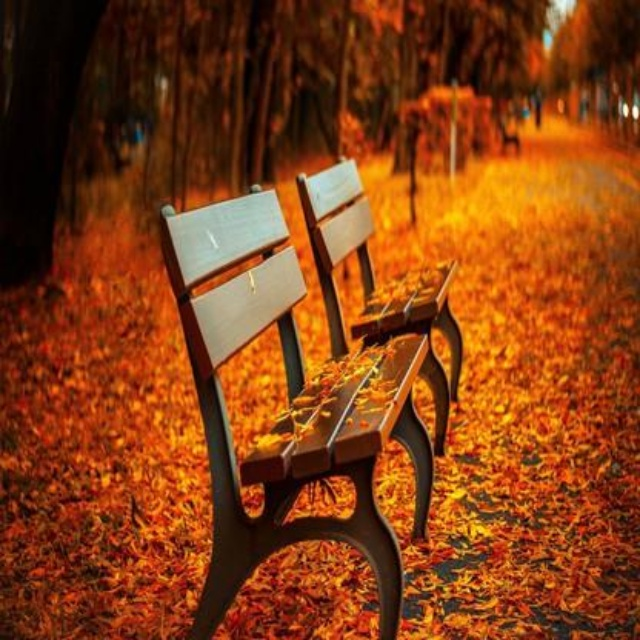obstacle: (134, 178, 431, 629)
